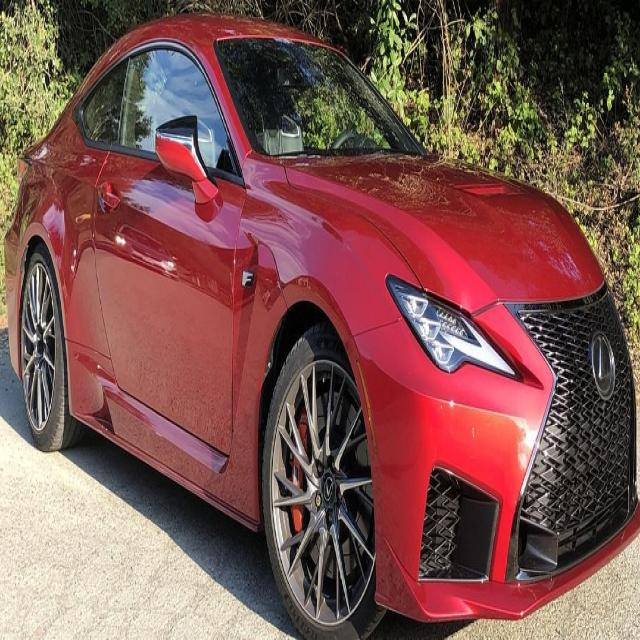red: (13, 9, 640, 618)
